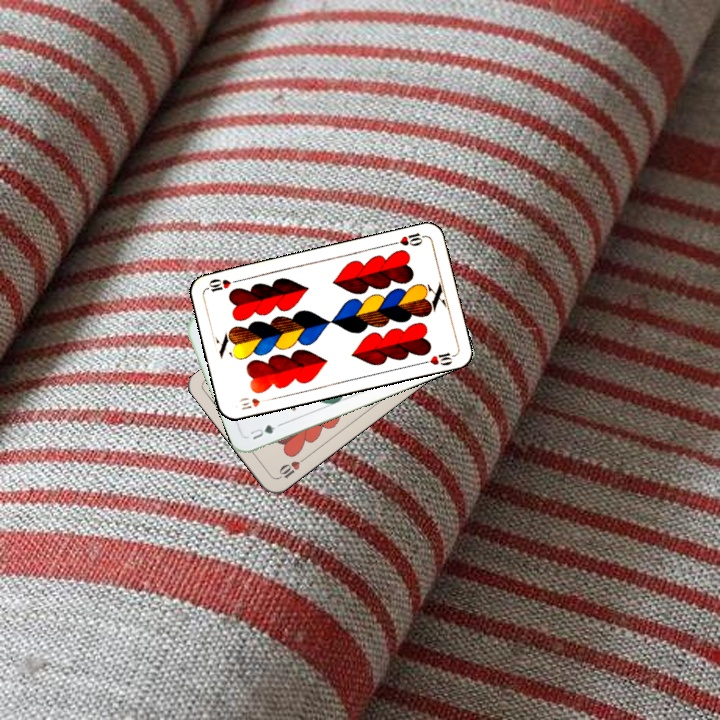GU: (246, 421, 278, 442)
H10: (274, 452, 309, 481), (388, 229, 428, 249), (234, 393, 273, 412)
